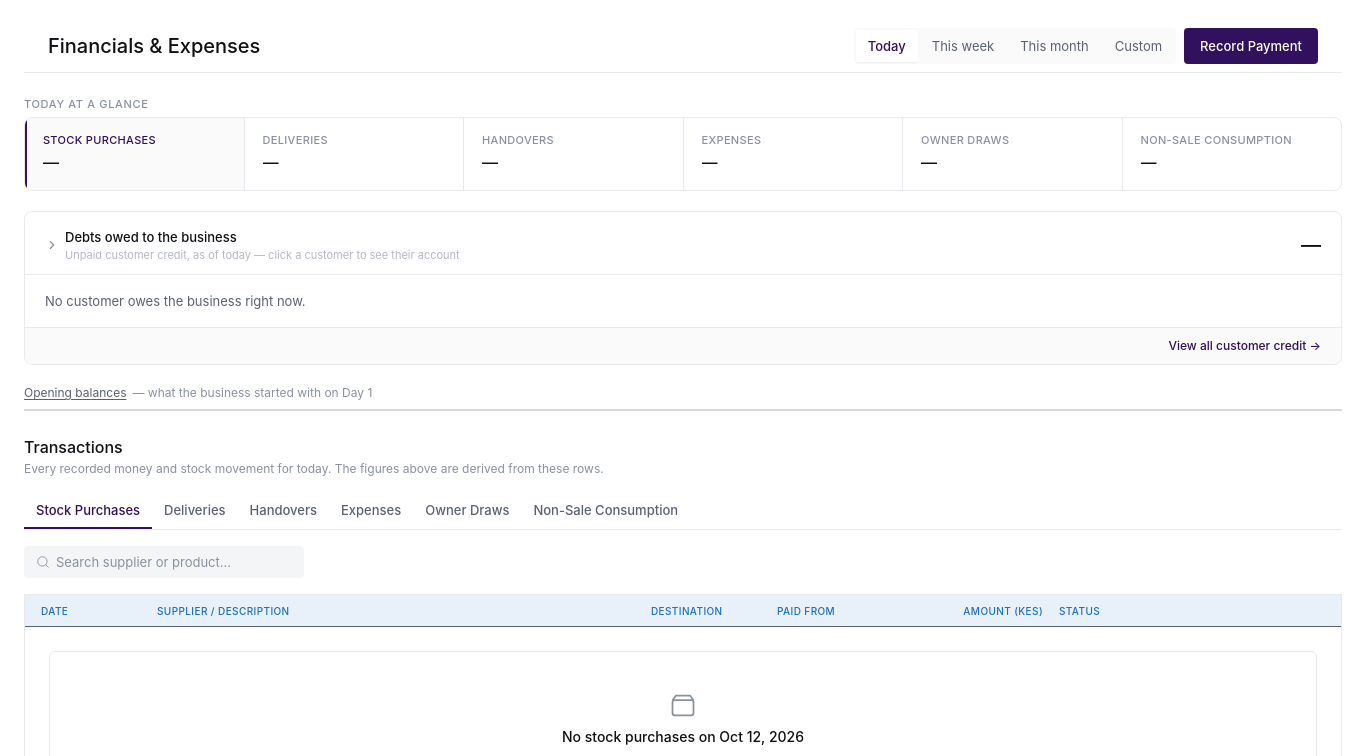
Test: /admin/financials — Deliveries tab › switches to Deliveries and shows an unmatched receipt with a Record-payment affordance
Click the tab "Deliveries" at {"x": 195, "y": 511}, box [152,493,238,529]
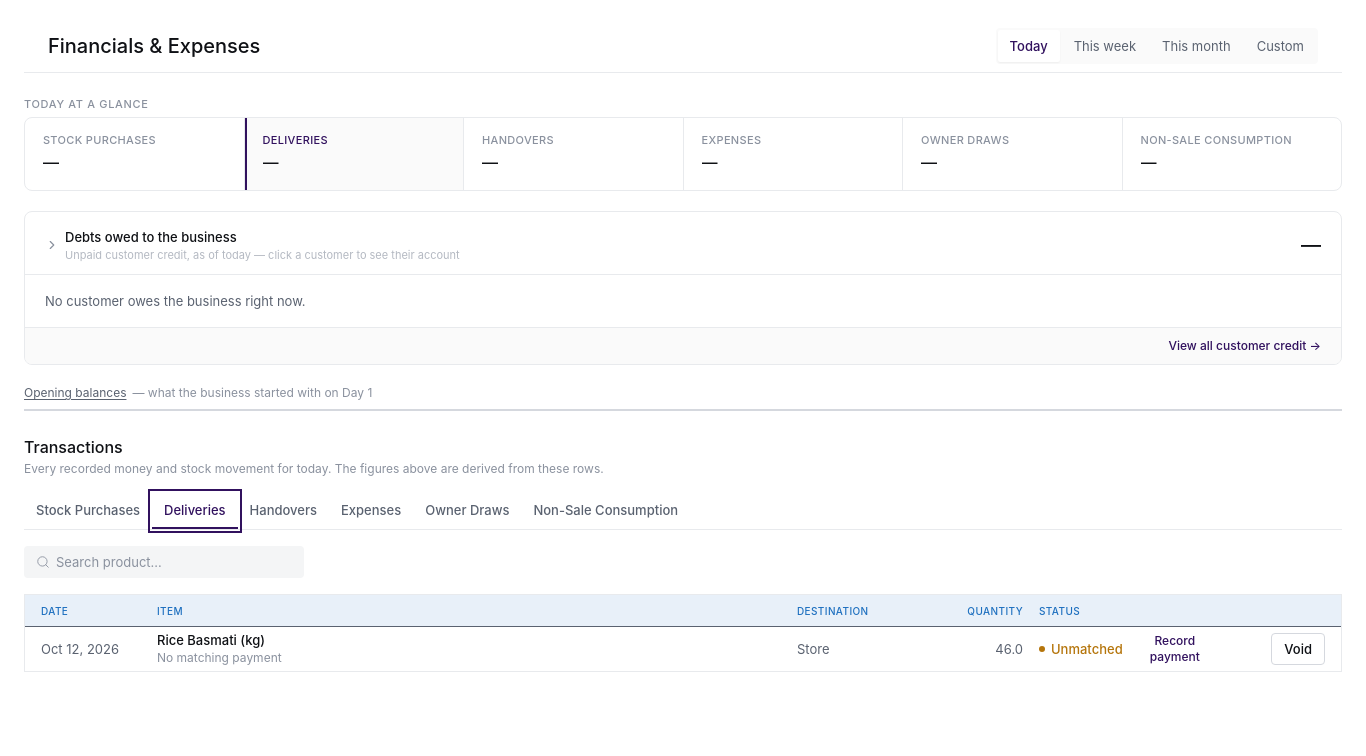
Check: the text "Unmatched" is shown, box [1051,640,1123,658]
Click the button "Record payment" at {"x": 1175, "y": 649}, box [1131,633,1219,665]
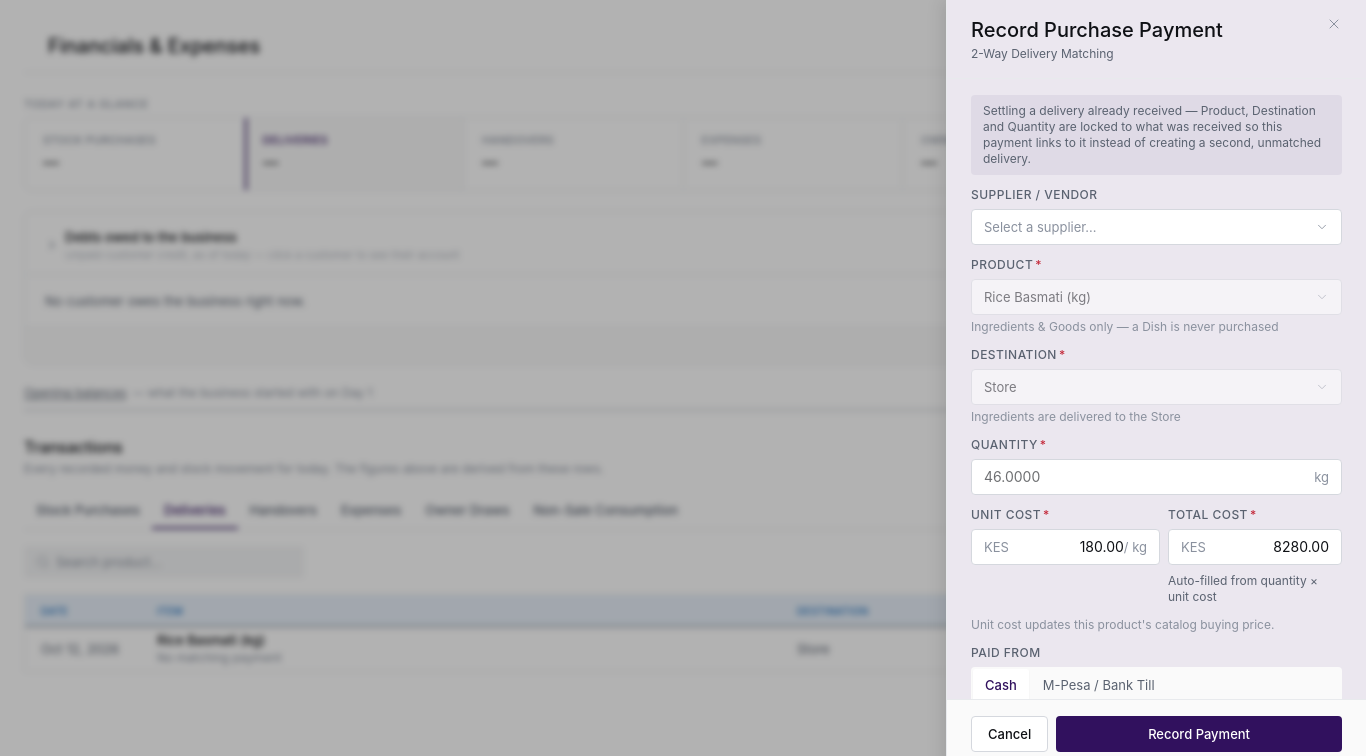
Check: the dropdown named "Product" shows "Rice Basmati", box [971,279,1342,315]
